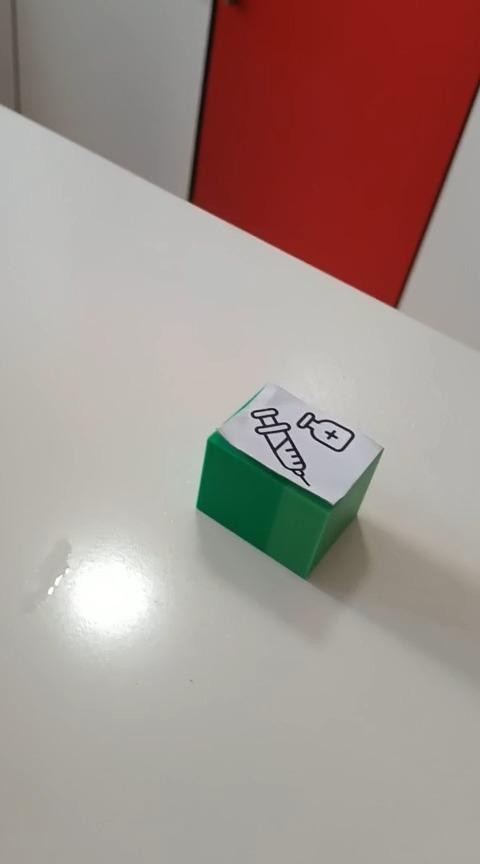antiseptic cream: (194, 381, 384, 580)
